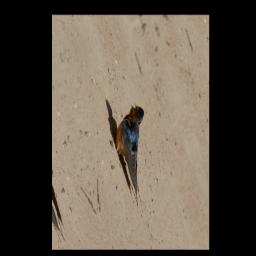Swallow: (107, 100, 169, 208)
